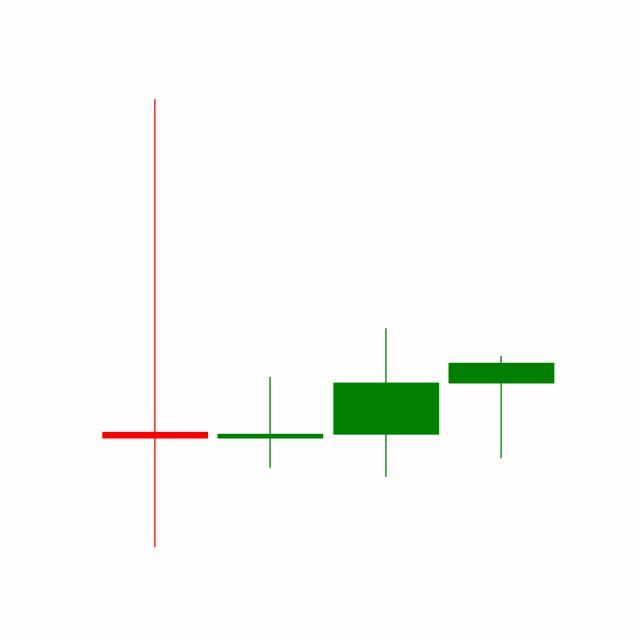Hanging Man: (444, 354, 560, 460)
